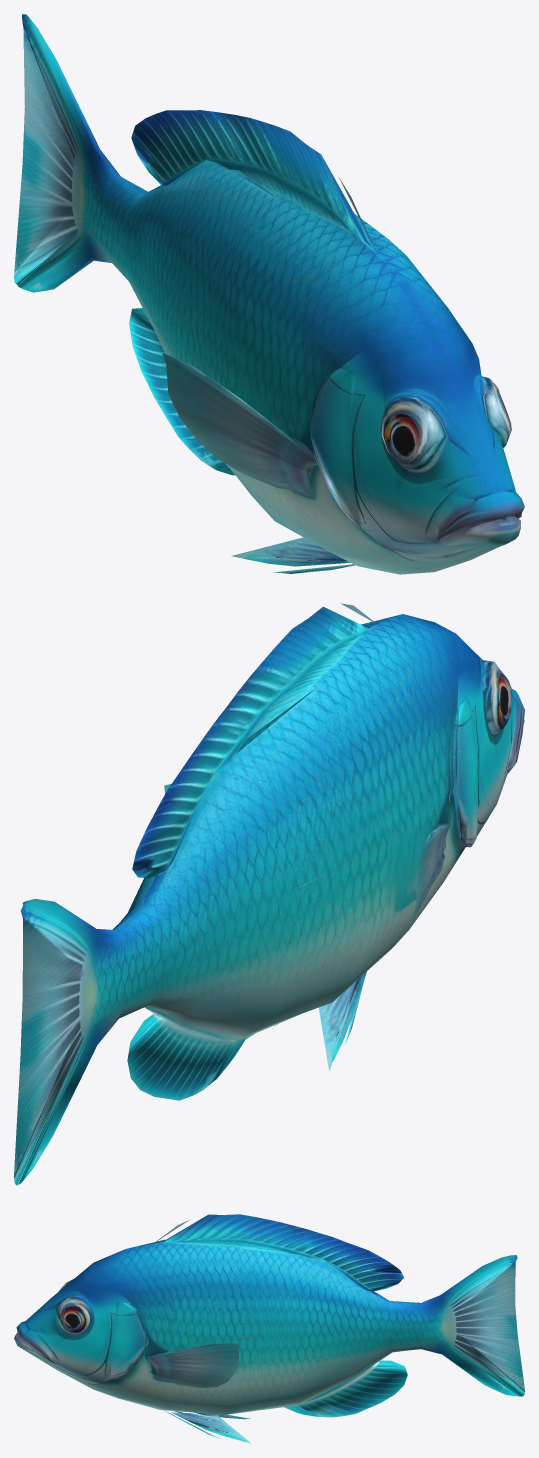
Rendered from chromis.glb.
The picture shows the model from 3 angles, top to bottom: view 1: azimuth 30°, elevation 25°; view 2: azimuth 150°, elevation 25°; view 3: azimuth 270°, elevation 25°; orthographic projection. The views are drawn at different scales.
Size of the model in its own units: 0.2896 by 0.4517 by 0.9648.
1 material, 1 textured.
